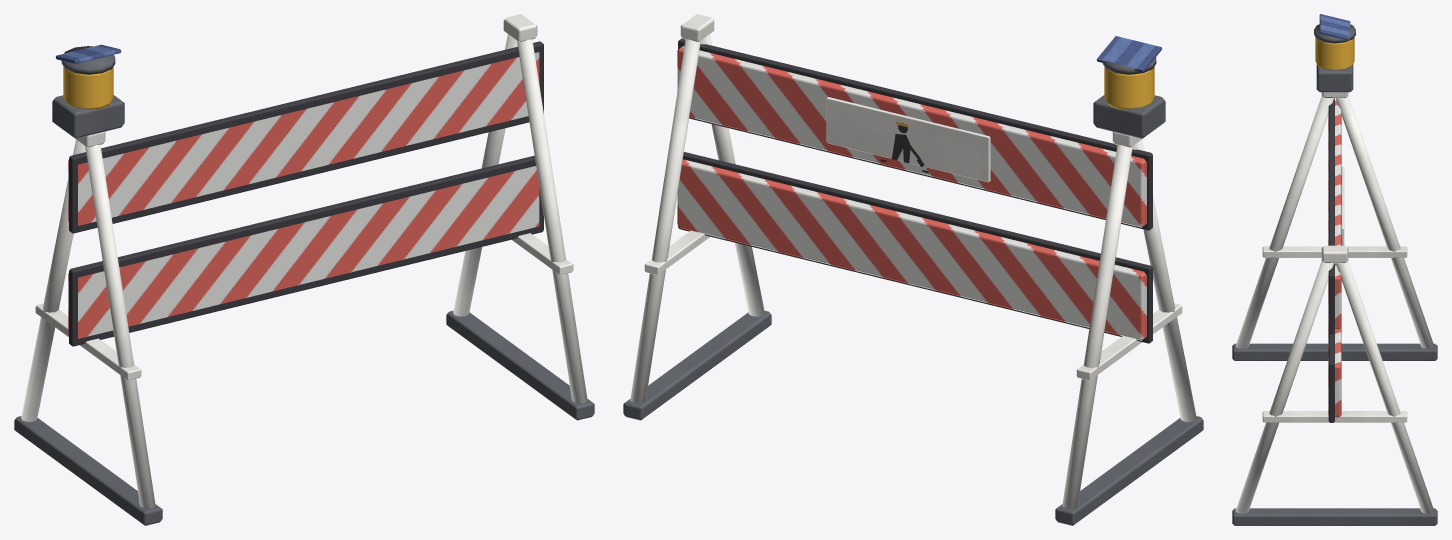
Rendered from Obras_Barrier.fbx.
The picture shows the model from 3 angles, left to right: view 1: azimuth 30°, elevation 25°; view 2: azimuth 150°, elevation 25°; view 3: azimuth 270°, elevation 25°; orthographic projection. The views are drawn at different scales.
Visible parts, largest first — view 1: Obras_Barrier; view 2: Obras_Barrier; view 3: Obras_Barrier.
Part boxes in pixels (box(x1,y1,x2,y2)): Obras_Barrier: box(14, 14, 594, 525); Obras_Barrier: box(623, 14, 1203, 525); Obras_Barrier: box(1232, 14, 1437, 525).
Bounding box in the file's own units: 1.64 × 1.41 × 0.78.
1 material, 1 textured.
